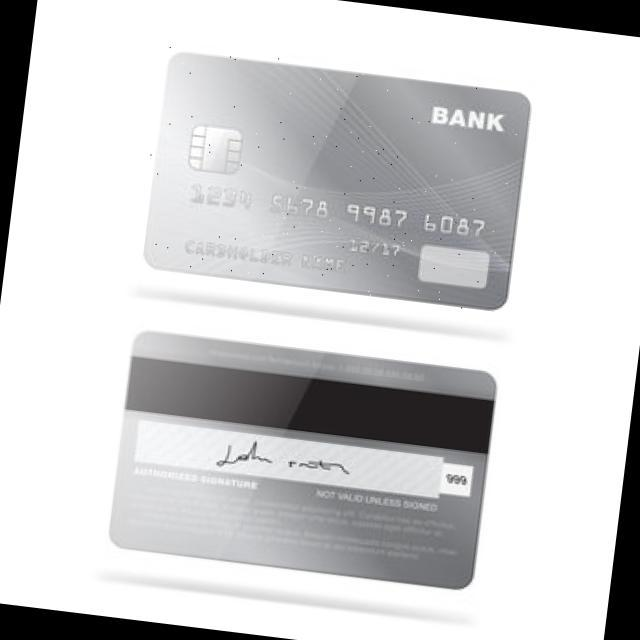payment_card: (142, 49, 532, 311), (107, 329, 497, 590)
